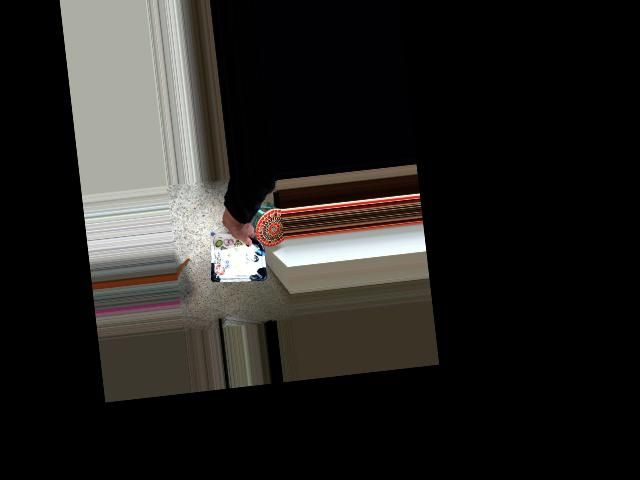cheese: (205, 208, 267, 275)
